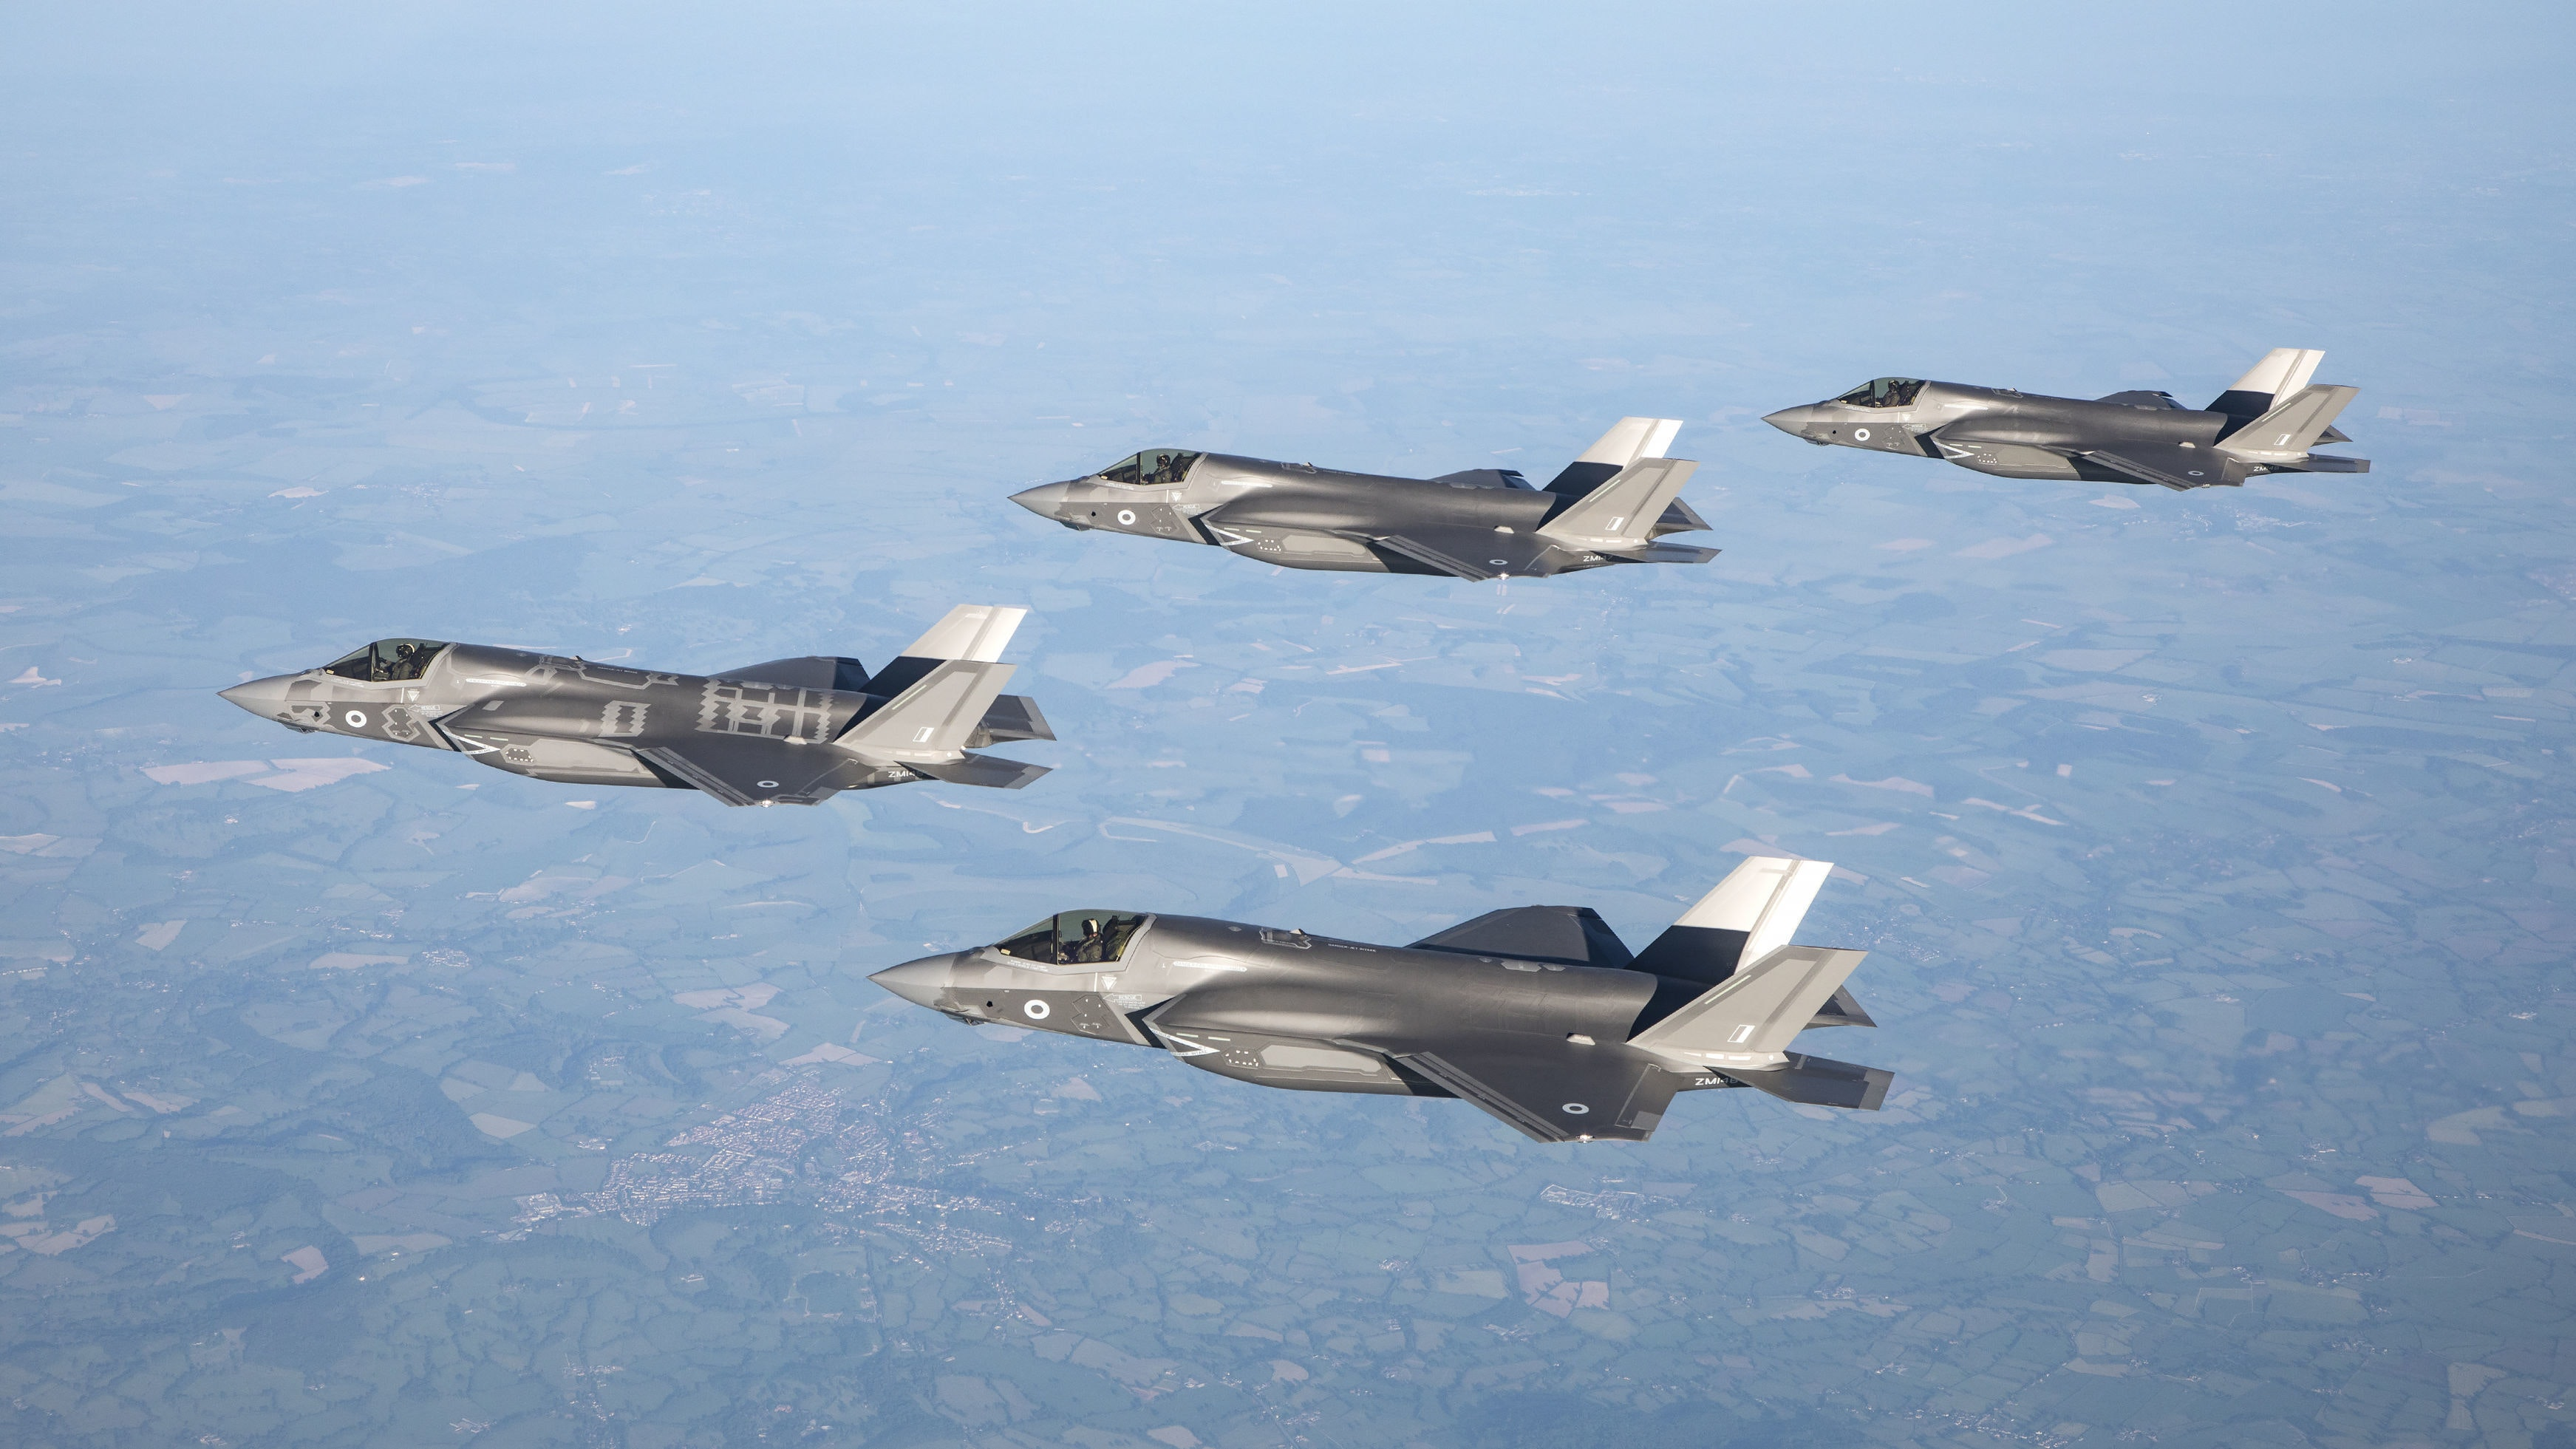F-35 Lightning: (847, 863, 1959, 1185), (179, 573, 1100, 839), (962, 361, 1757, 594), (1762, 333, 2401, 502)
